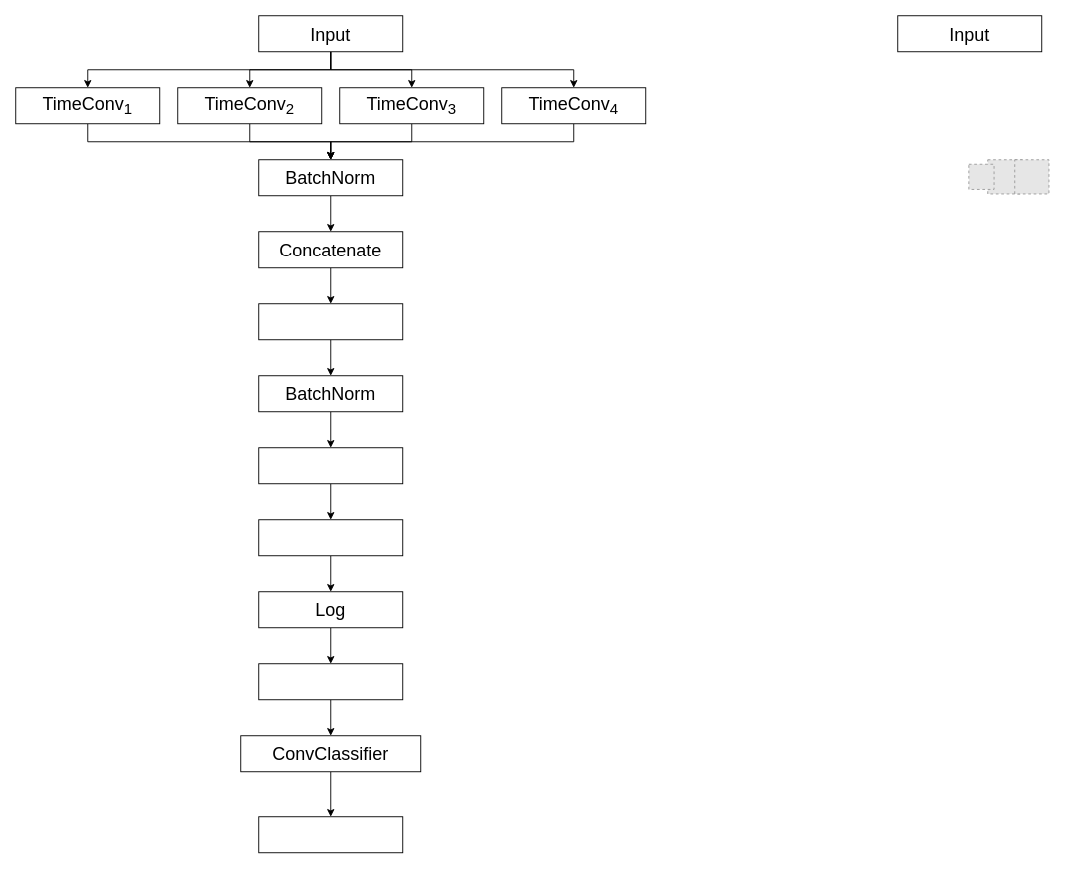
Image size: 1065x869. Some labels were removed from this diagram. Grey dashed boxes stand in for pictures. Each missing label, with the centre of its shape:
AvgPool: the point at 330,537
Dropout: the point at 330,681
Output: the point at 330,834
SpatConv: the point at 330,321
Square: the point at 330,465
